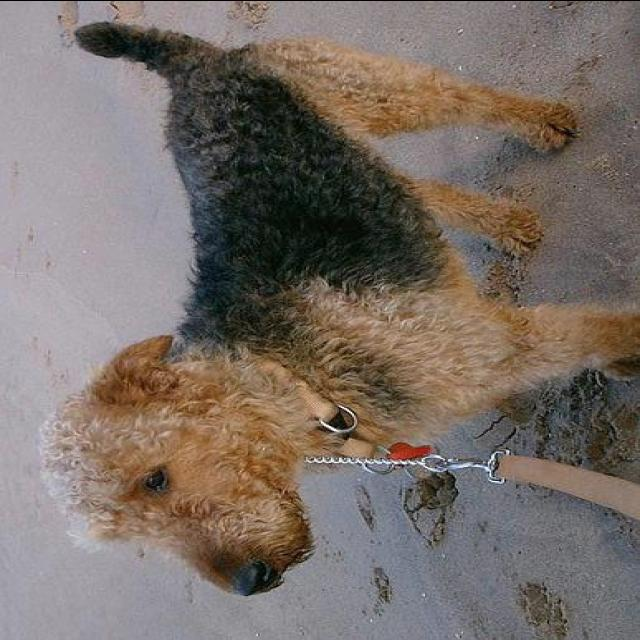airedale: (36, 22, 638, 596)
